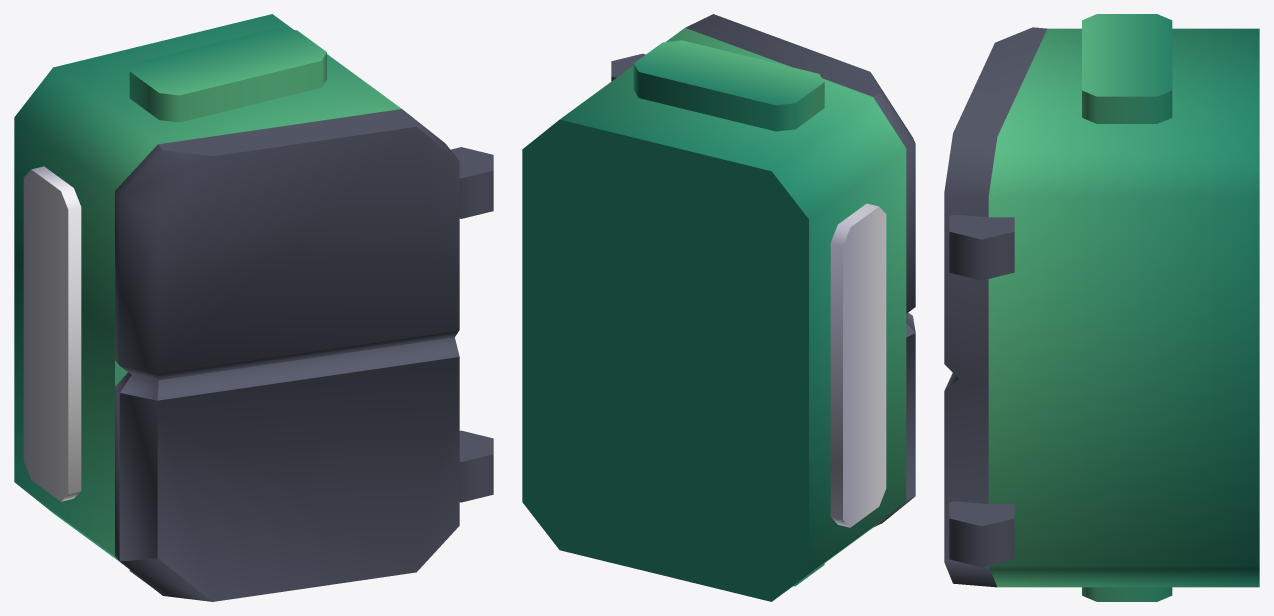
The model's file is prop_14_dumpster.glb.
The picture shows the model from 3 angles, left to right: view 1: azimuth 30°, elevation 25°; view 2: azimuth 150°, elevation 25°; view 3: azimuth 270°, elevation 25°; orthographic projection. The views are drawn at different scales.
Parts seen in each view (by area): view 1: prop_14_dumpster; view 2: prop_14_dumpster; view 3: prop_14_dumpster.
Boxes of the visible parts, x1,y1,x2,y2 form: prop_14_dumpster: (14,14,493,601); prop_14_dumpster: (522,14,915,601); prop_14_dumpster: (944,14,1259,601).
Size of the model in its own units: 2.75 by 3.7 by 2.09.
1 material, 1 textured.
